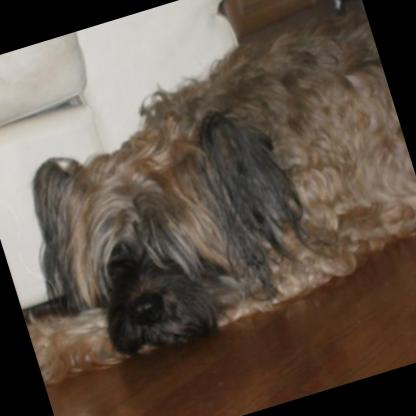briard: (0, 0, 416, 385)
